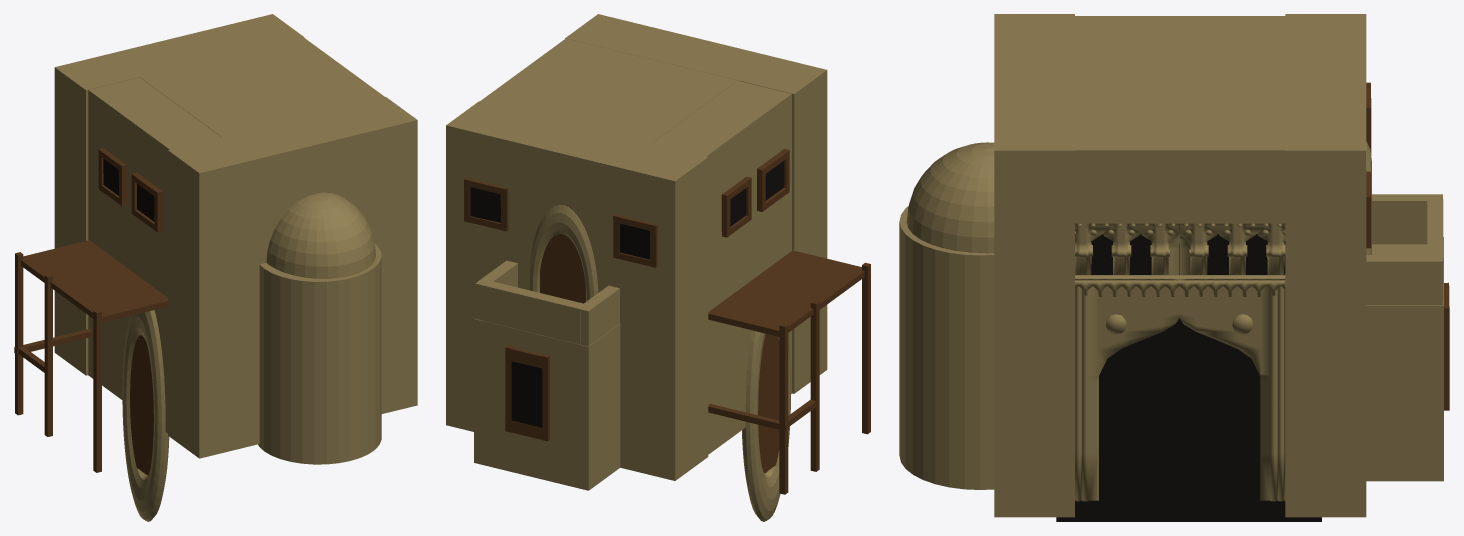
Rendered from business_east.obj.
The picture shows the model from 3 angles, left to right: view 1: azimuth 30°, elevation 25°; view 2: azimuth 150°, elevation 25°; view 3: azimuth 270°, elevation 25°; orthographic projection. The views are drawn at different scales.
Visible parts, largest first — view 1: Torus.001, Cube.013_Cube.029, Cube.006_Cube.023, Cube.002_Cube.007, Cube.008_Cube.013, Cube_Cube.001; view 2: Torus.001, Cube.013_Cube.029, Cube.006_Cube.023, Cube.003_Cube.021, Cube.004_Cube.016, Cube_Cube.004_Cube_Cube.006, Cube.005_Cube.017, Cube.001_Cube.014, Cube.002_Cube.007, Cube.008_Cube.013, Cube_Cube.002_Cube_Cube.004, Cube_Cube.003_Cube_Cube.005 (+1 smaller); view 3: Torus.001, Cube_Cube.019, Cube.004_Cube.016.
Part boxes in pixels (x1=…): Torus.001: x1=54, y1=14, x2=417, y2=521; Cube.013_Cube.029: x1=14, y1=240, x2=168, y2=472; Cube.006_Cube.023: x1=130, y1=335, x2=153, y2=475; Cube.002_Cube.007: x1=131, y1=172, x2=162, y2=232; Cube.008_Cube.013: x1=98, y1=148, x2=126, y2=206; Cube_Cube.001: x1=137, y1=184, x2=154, y2=221; Torus.001: x1=446, y1=14, x2=827, y2=521; Cube.013_Cube.029: x1=708, y1=251, x2=870, y2=494; Cube.006_Cube.023: x1=758, y1=333, x2=779, y2=473; Cube.003_Cube.021: x1=540, y1=234, x2=585, y2=303; Cube.004_Cube.016: x1=505, y1=345, x2=549, y2=441; Cube_Cube.004_Cube_Cube.006: x1=511, y1=361, x2=542, y2=427; Cube.005_Cube.017: x1=464, y1=178, x2=508, y2=231; Cube.001_Cube.014: x1=613, y1=214, x2=657, y2=267; Cube.002_Cube.007: x1=757, y1=149, x2=789, y2=211; Cube.008_Cube.013: x1=721, y1=176, x2=751, y2=237; Cube_Cube.002_Cube_Cube.004: x1=619, y1=223, x2=649, y2=259; Cube_Cube.003_Cube_Cube.005: x1=470, y1=187, x2=500, y2=222; Torus.001: x1=899, y1=14, x2=1443, y2=517; Cube_Cube.019: x1=1056, y1=224, x2=1321, y2=521; Cube.004_Cube.016: x1=1444, y1=282, x2=1449, y2=410.
Bounding box in the file's own units: 5.33 × 6.82 × 6.8.
